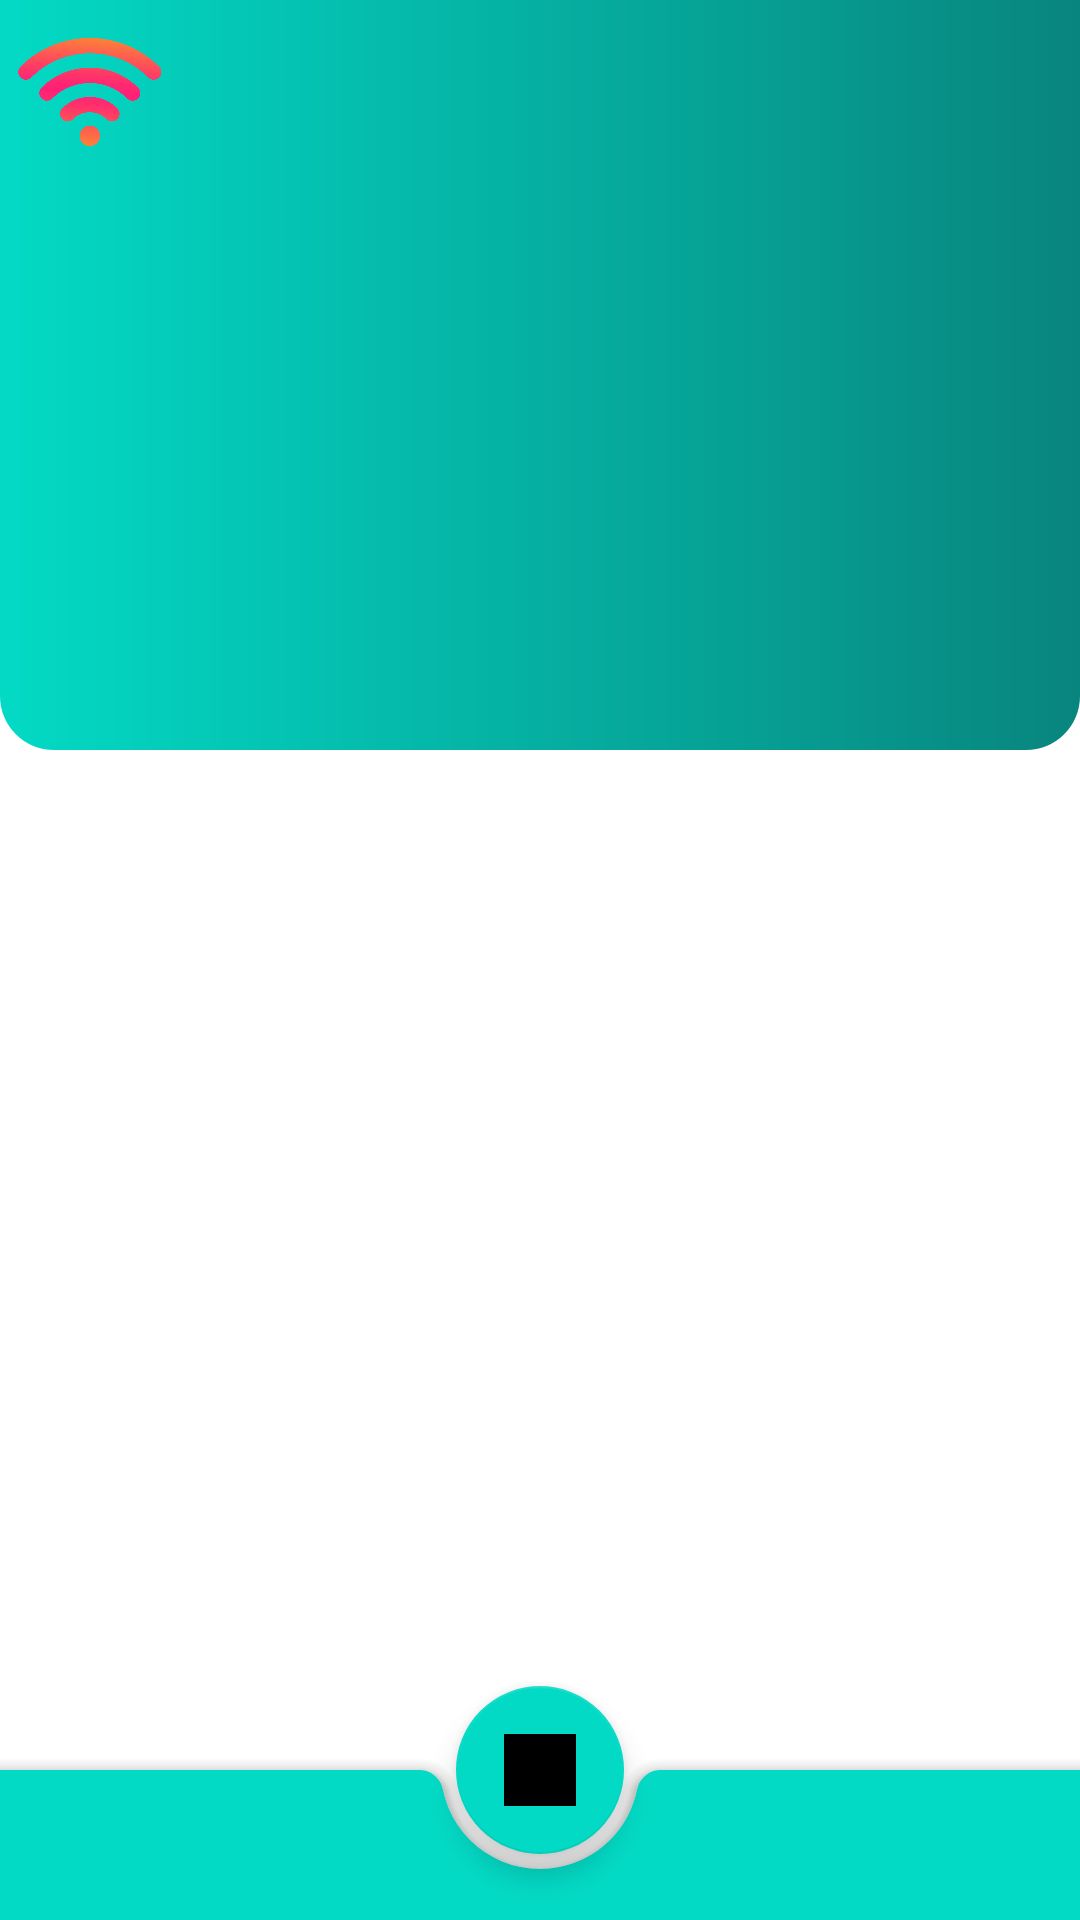

Icons on this 1080 × 1920 Android screen, each with the point to tap as [x,y]:
wifi: [89,92]
